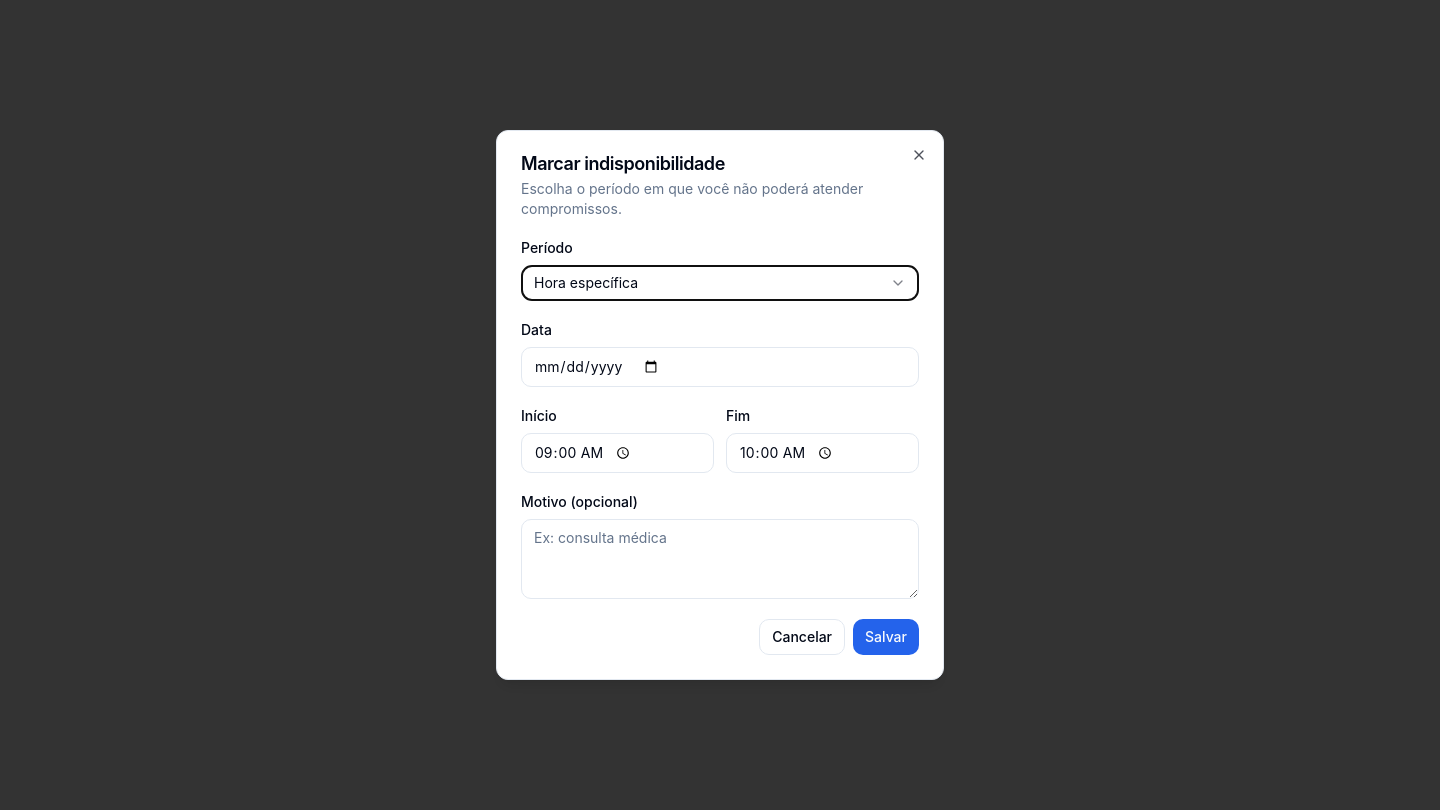
it: AvailabilityForm › shows the AVAIL-06 message and persists nothing when the times are out of order
In the date field labelled "Data": (720, 367) x1=521 y1=347 x2=919 y2=387, type "2026-11-05"
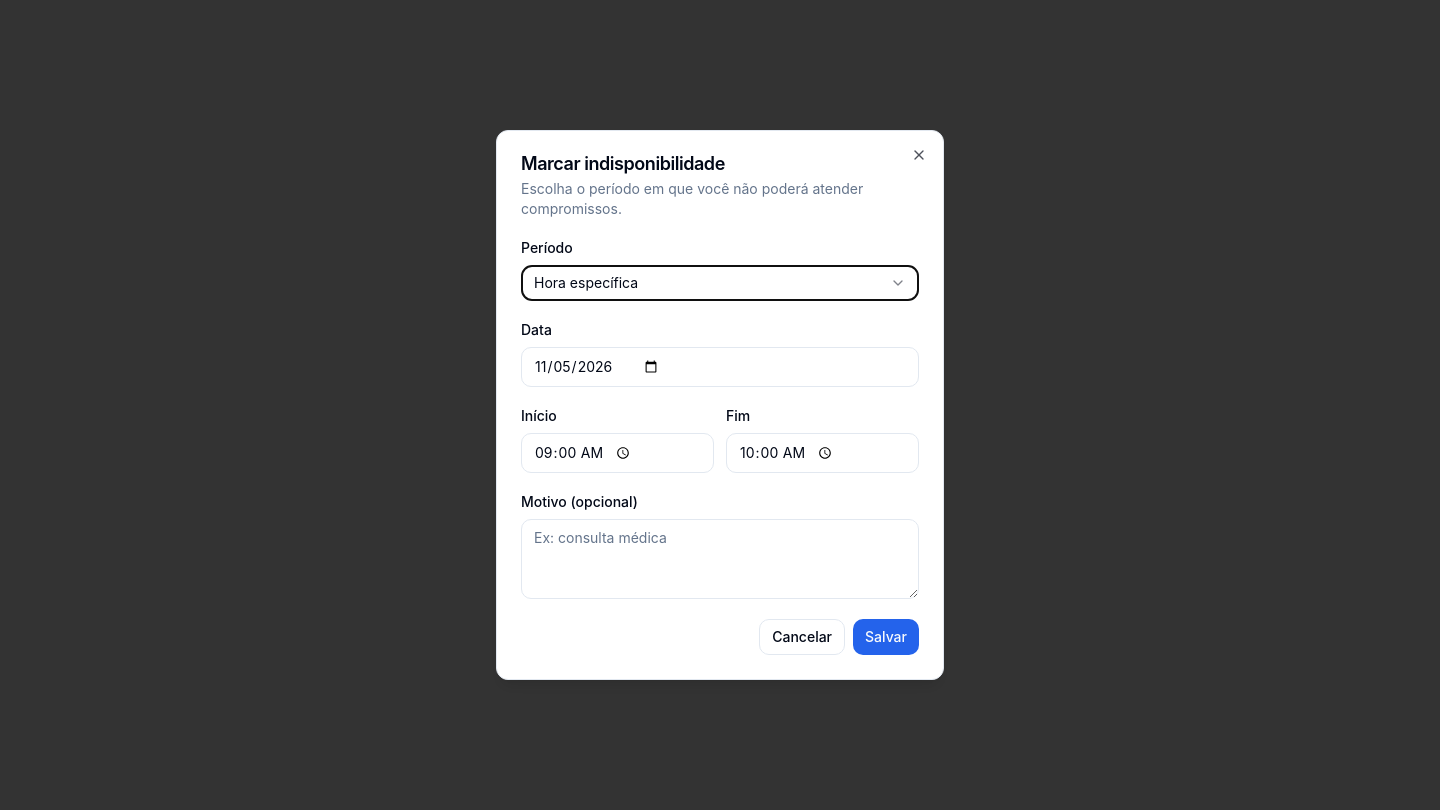
Replace the text in the time field labelled "Início" with "16:00": (618, 453) x1=521 y1=433 x2=714 y2=473
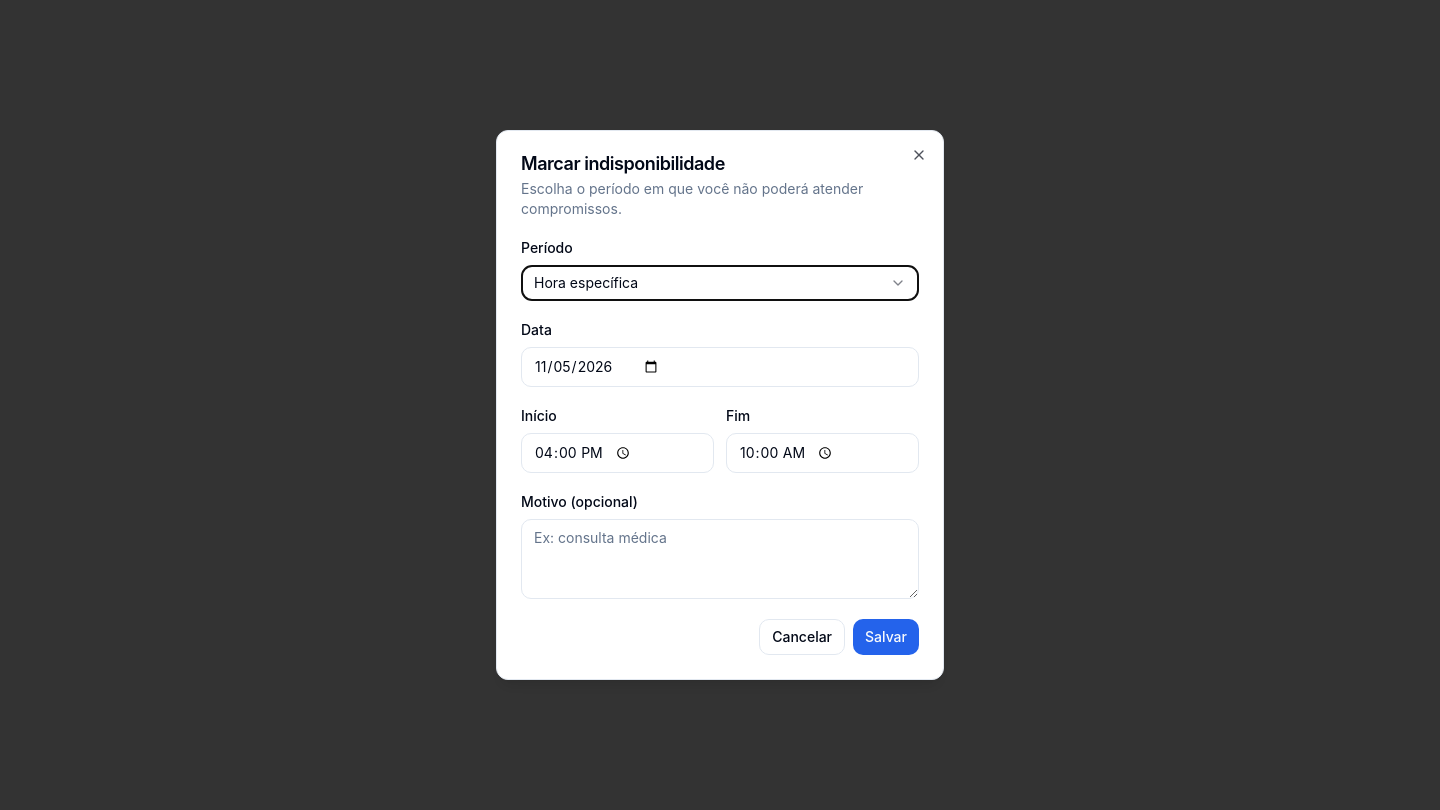
Replace the text in the time field labelled "Fim" with "14:00": (822, 453) x1=726 y1=433 x2=919 y2=473
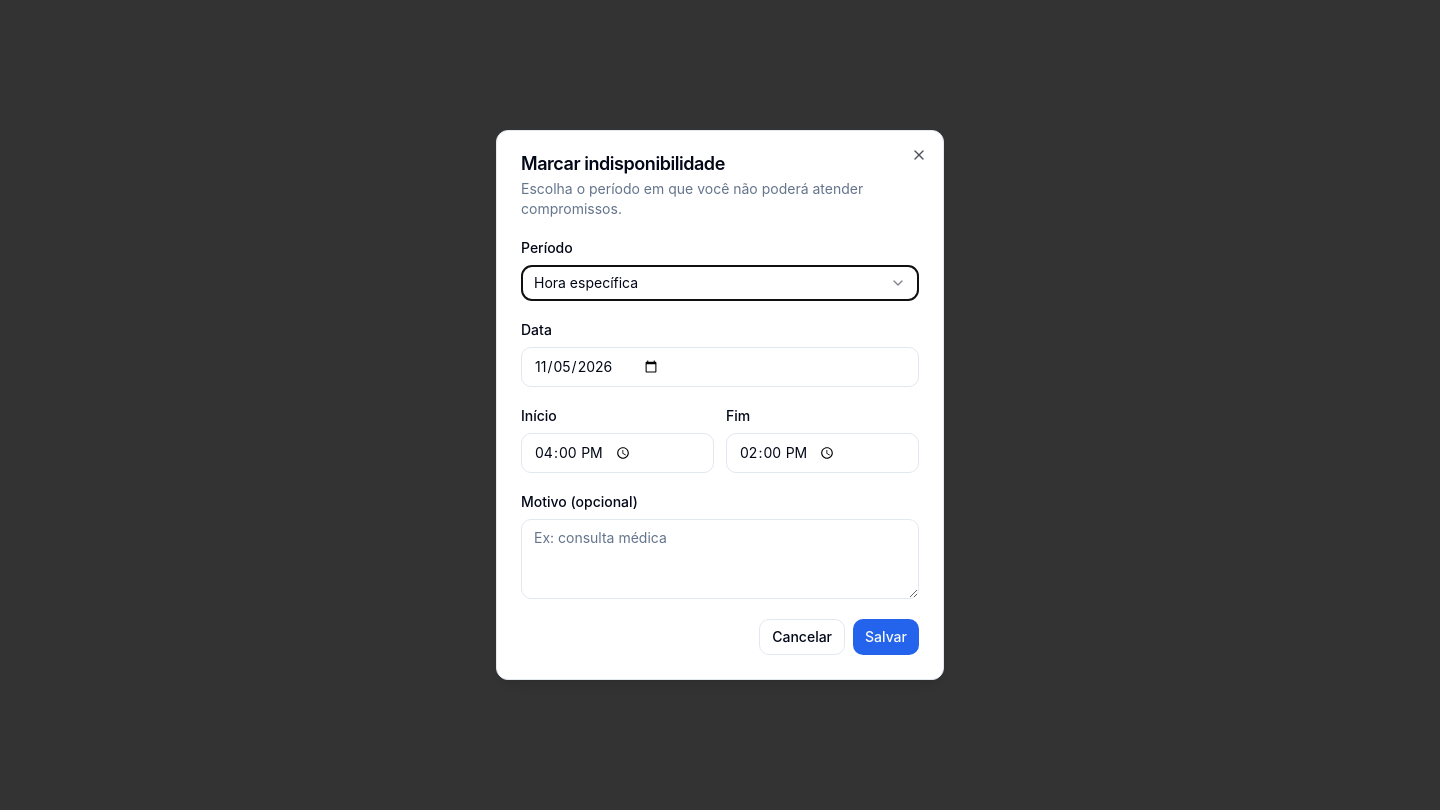
Click the button "Salvar": (886, 637) x1=853 y1=619 x2=919 y2=655
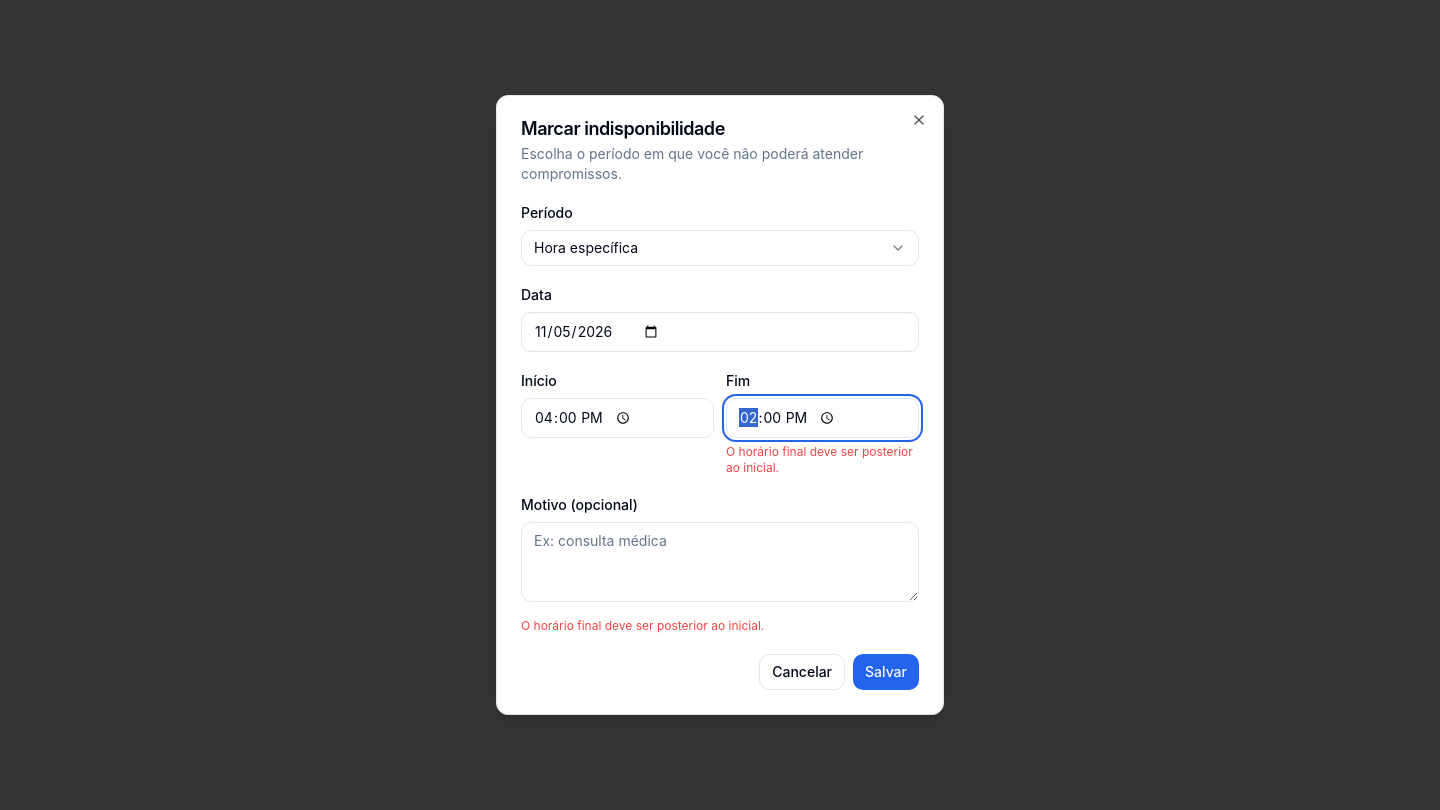
Result: the text "O horário final deve ser posterior ao inicial." below "Fim" is shown at x1=726 y1=444 x2=913 y2=475
